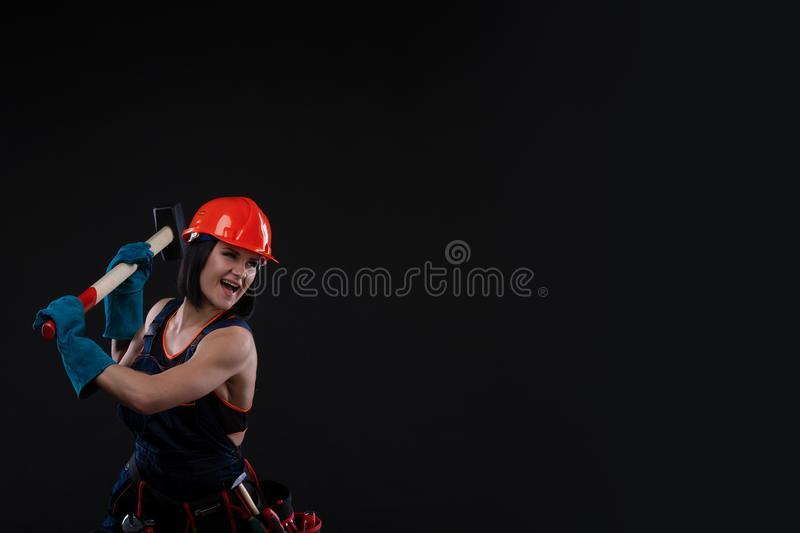helmet: (180, 198, 280, 269)
